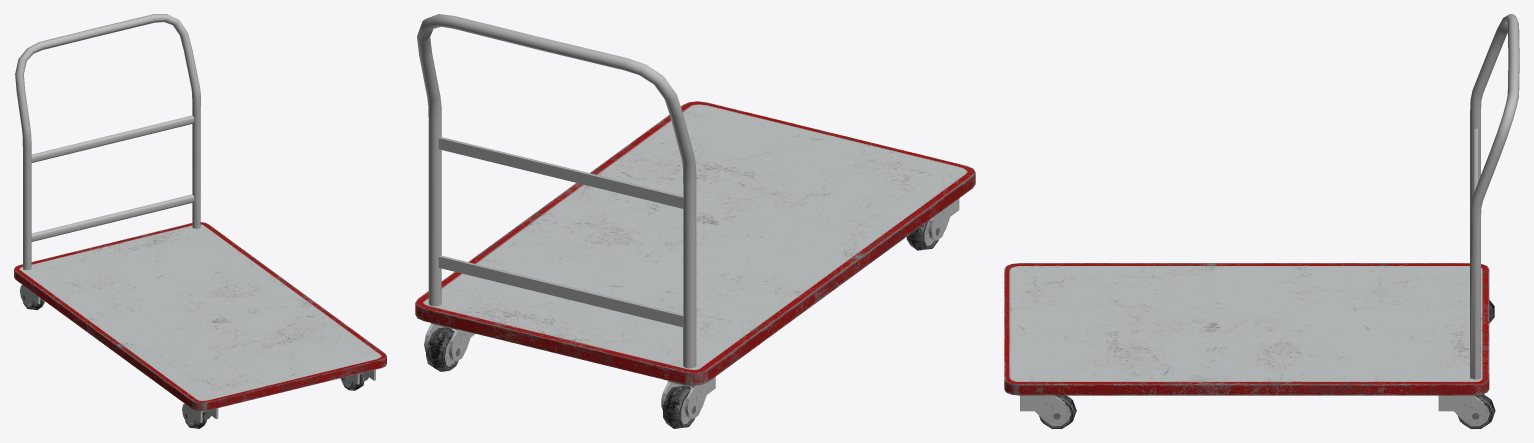
The model's file is Trolley (2).fbx.
The picture shows the model from 3 angles, left to right: view 1: azimuth 30°, elevation 25°; view 2: azimuth 150°, elevation 25°; view 3: azimuth 270°, elevation 25°; orthographic projection. The views are drawn at different scales.
Visible parts, largest first — view 1: Platform_Truck; view 2: Platform_Truck; view 3: Platform_Truck.
Part boxes in pixels (bbox=[...]): Platform_Truck: bbox=[14, 14, 386, 428]; Platform_Truck: bbox=[415, 14, 975, 428]; Platform_Truck: bbox=[1004, 14, 1519, 428].
Size of the model in its own units: 1.12 by 1.4 by 2.01.
